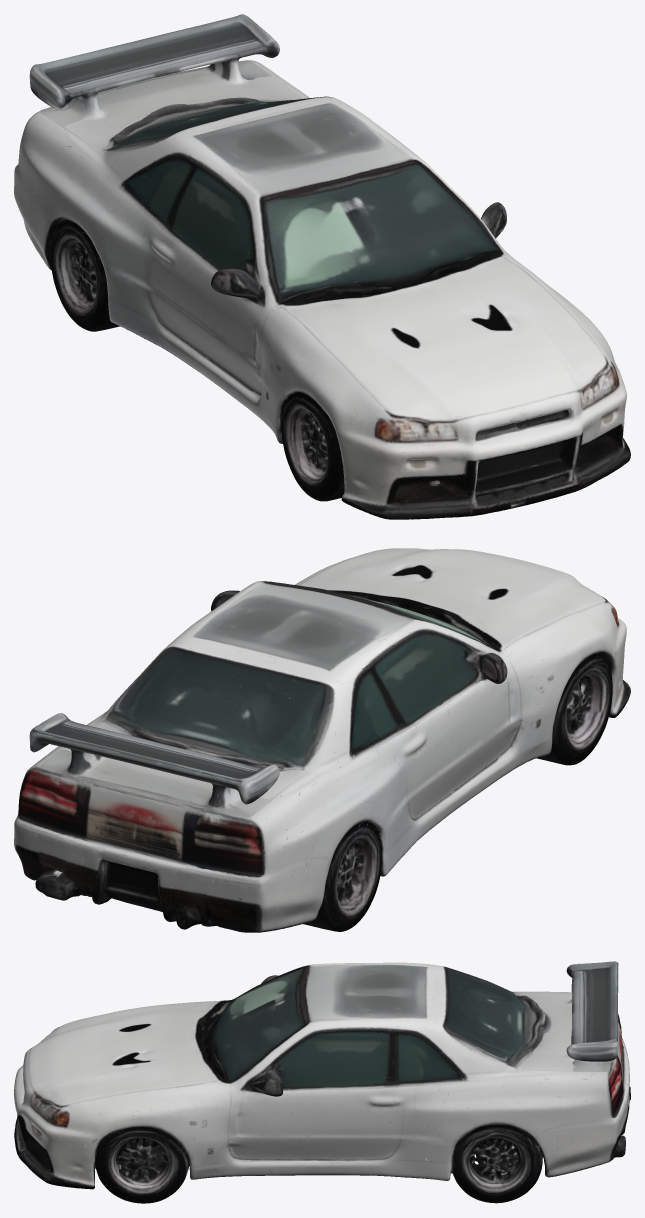
The model's file is nissan-skyline-r34.glb.
The picture shows the model from 3 angles, top to bottom: view 1: azimuth 30°, elevation 25°; view 2: azimuth 150°, elevation 25°; view 3: azimuth 270°, elevation 25°; orthographic projection. The views are drawn at different scales.
Parts seen in each view (by area): view 1: world; view 2: world; view 3: world.
Part boxes in pixels (box(x1,y1,x2,y2)): world: box(14, 14, 630, 519); world: box(14, 548, 630, 932); world: box(14, 961, 630, 1203).
Bounding box in the file's own units: 0.4191 × 0.2916 × 1.
Materials: 1 (1 with a texture image).
